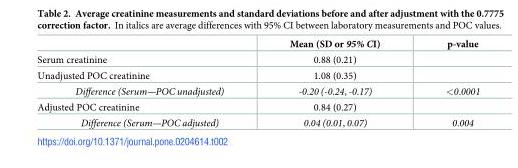table: (36, 37, 479, 128)
table column: (36, 37, 256, 128), (256, 37, 412, 128), (412, 37, 479, 128)
table column header: (36, 37, 479, 52)
table row: (36, 82, 479, 99), (36, 37, 479, 52), (36, 52, 479, 67), (36, 67, 479, 82), (36, 113, 479, 128), (36, 99, 479, 113)
